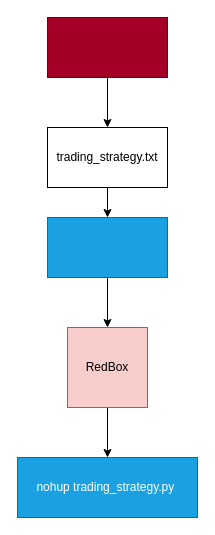
The diagram is 215 pixels wide and 535 high, and some of its shapes have lost their labels. The centre of each missing label's shape, as x and y in pixels:
redpanda: (x=107, y=47)
trading_strategy.py: (x=107, y=247)
